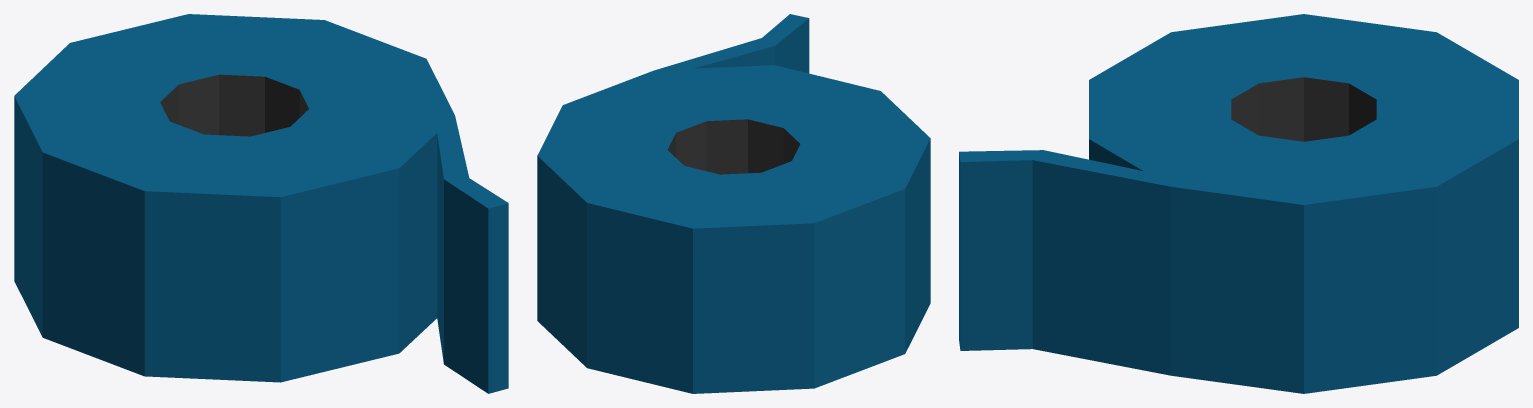
The model's file is model_tape_blue.fbx.
3 views of the same model, side by side, from view 1: azimuth 30°, elevation 25°; view 2: azimuth 150°, elevation 25°; view 3: azimuth 270°, elevation 25° (orthographic). The views are drawn at different scales.
Visible parts, largest first — view 1: model_tape_blue; view 2: model_tape_blue; view 3: model_tape_blue.
Boxes of the visible parts, bbox=[...] form: model_tape_blue: bbox=[14, 14, 508, 393]; model_tape_blue: bbox=[537, 14, 930, 393]; model_tape_blue: bbox=[959, 14, 1518, 393].
Bounding box in the file's own units: 11.31 × 5.22 × 14.
Materials: 1 (1 with a texture image).
